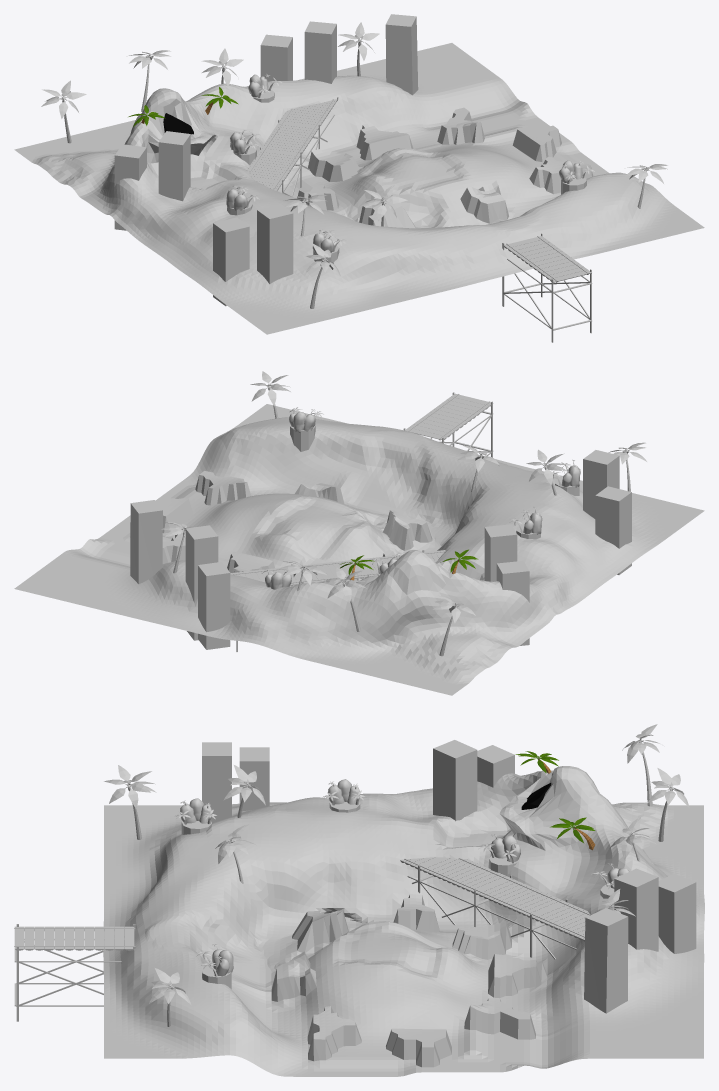
The model's file is WorldMap.fbx.
The picture shows the model from 3 angles, top to bottom: view 1: azimuth 30°, elevation 25°; view 2: azimuth 150°, elevation 25°; view 3: azimuth 270°, elevation 25°; orthographic projection. The views are drawn at different scales.
Parts seen in each view (by area): view 1: Land, Level5, Level8, Level7, Level9, Level6; view 2: Land, Level5, Level7, Level6; view 3: Land, Level8, Level6, Level5, Level7.
Part boxes in pixels (x1,y1,x2,y2): Land: [14, 14, 704, 342]; Level5: [559, 160, 594, 194]; Level8: [230, 130, 260, 165]; Level7: [226, 185, 260, 215]; Level9: [248, 74, 282, 102]; Level6: [312, 229, 346, 265]; Land: [14, 371, 704, 695]; Level5: [289, 407, 323, 451]; Level7: [509, 507, 542, 539]; Level6: [552, 459, 580, 495]; Land: [14, 724, 704, 1076]; Level8: [479, 834, 520, 875]; Level6: [174, 798, 216, 834]; Level5: [196, 944, 233, 988]; Level7: [323, 779, 364, 812].
Size of the model in its own units: 54324 by 14839 by 62019.
